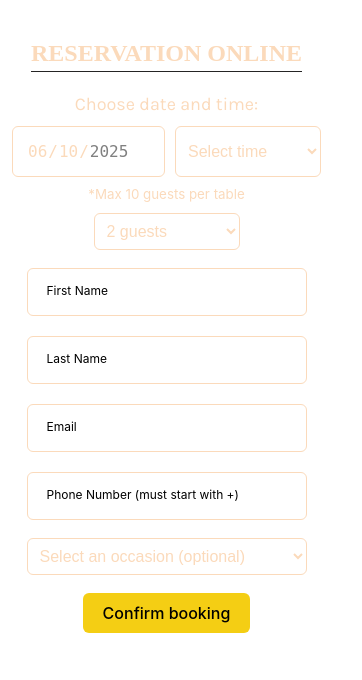
Test: BookingForm › validates form fields according to validation rules
# Test invalid first name (too short)
Type "Jo" into the field labelled "First Name" at {"x": 166, "y": 292}, box [26,268,306,316]
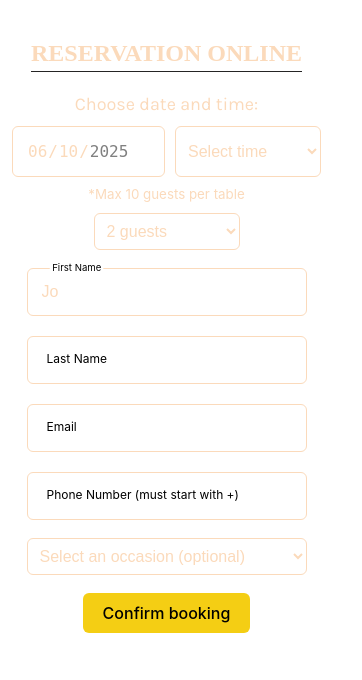
Leave the field labelled "First Name", box [26,268,306,316]
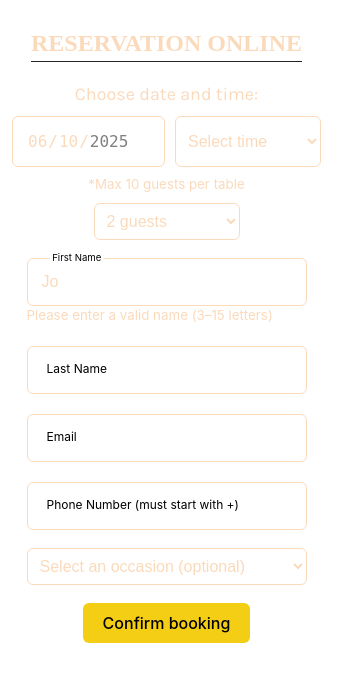
Result: the text "Please enter a valid name (3–15 letters)" is shown at [26,306,306,326]
# Test invalid email
Type "invalid-email" into the field labelled "Email" at {"x": 166, "y": 438}, box [26,414,306,462]
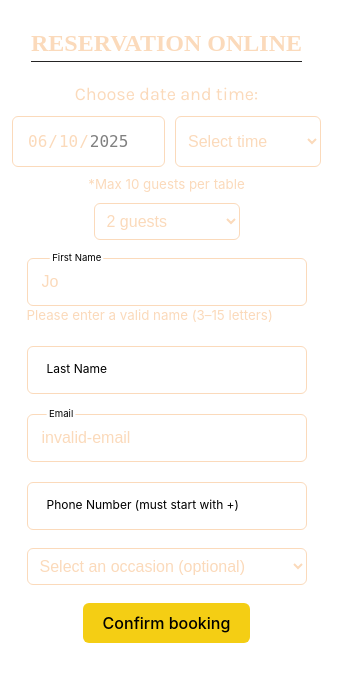
Leave the field labelled "Email", box [26,414,306,462]
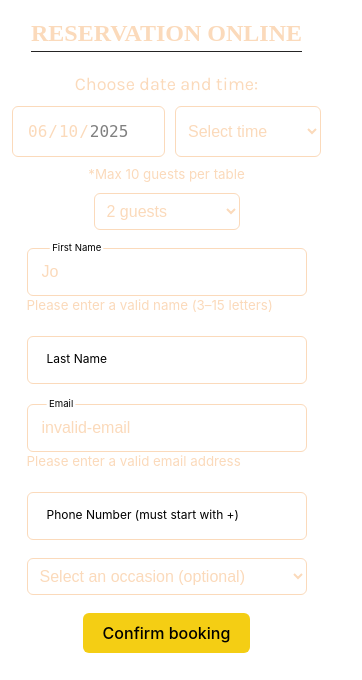
Result: the text "Please enter a valid email address" is shown at [26,453,241,469]
# Test invalid phone number
Type "1234567890" into the field labelled "Phone Number (must start with +)" at {"x": 166, "y": 516}, box [26,492,306,540]
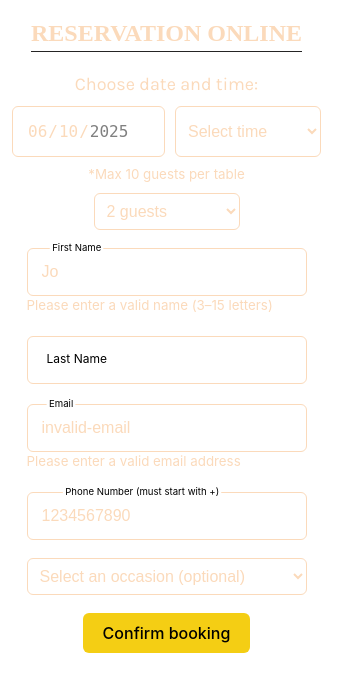
Leave the field labelled "Phone Number (must start with +)", box [26,492,306,540]
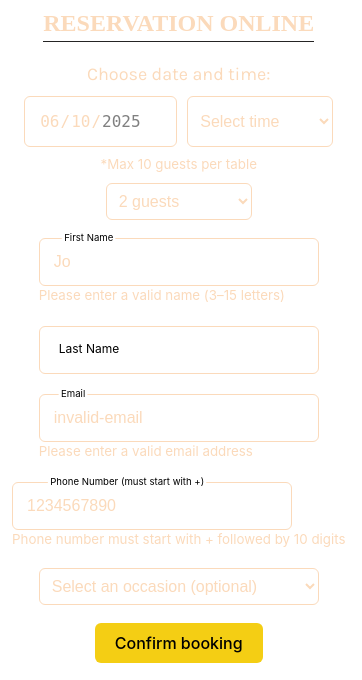
Result: the text "Phone number must start with + followed by 10 digits" is shown at [12,530,345,550]
